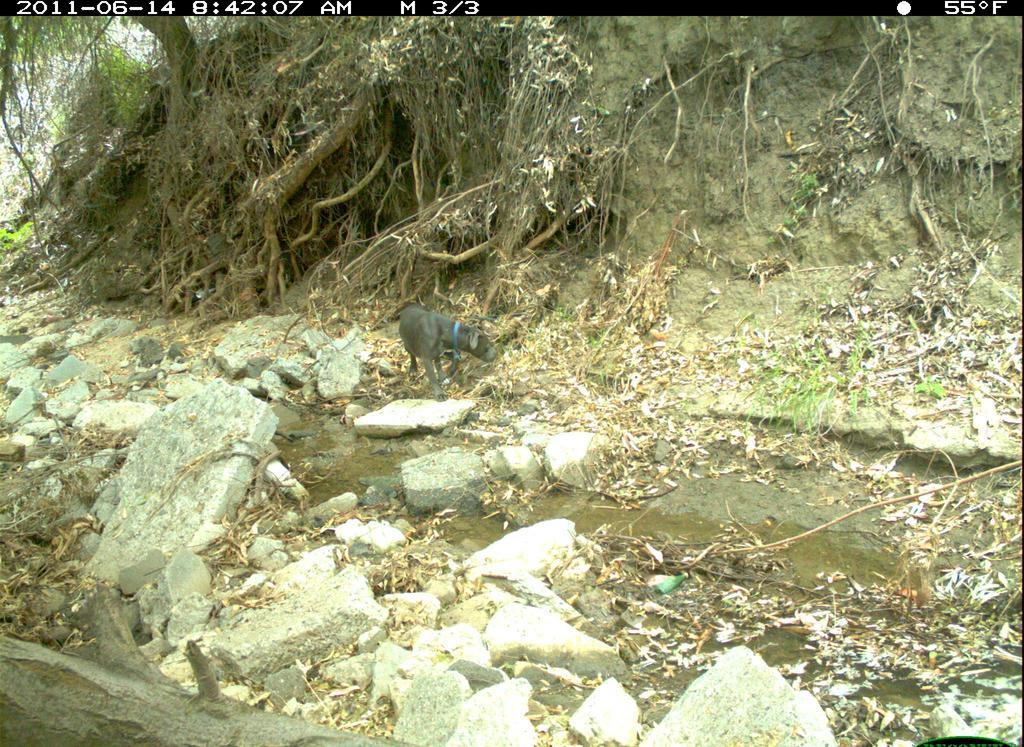dog: (385, 294, 513, 418)
